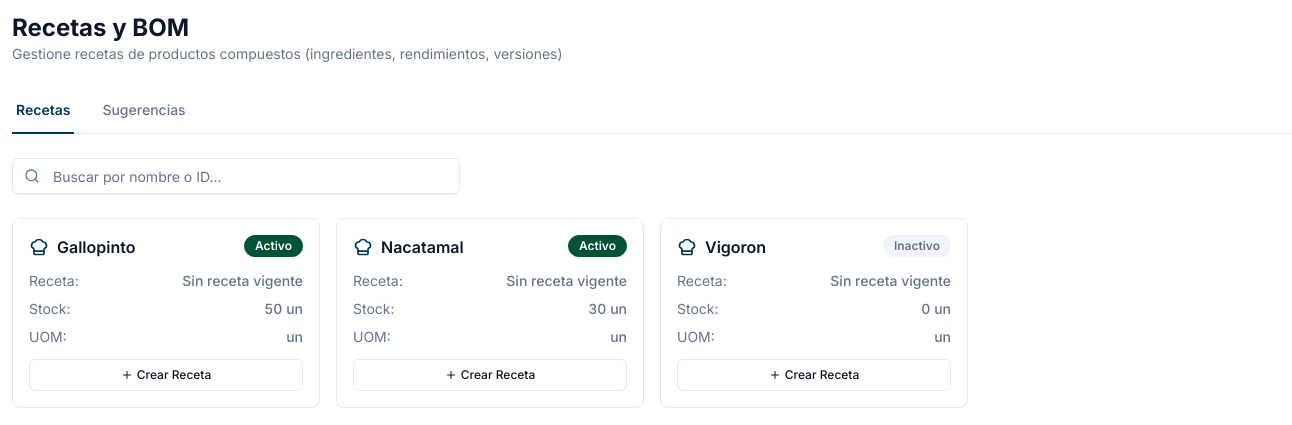
W7 — RecipesPage › filters products by search query
Type "Gallo" into the field with placeholder "Buscar por nombre o ID..." at x=236, y=176, box [12, 158, 460, 194]
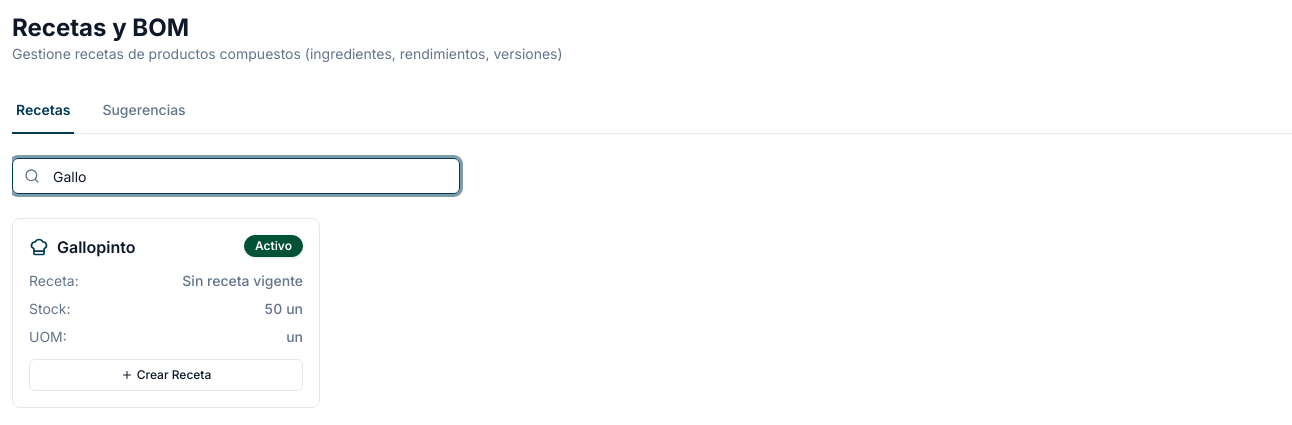
Expected: the heading "Gallopinto" is shown, [57, 235, 136, 259]
Expected: the heading "Nacatamal" is gone
